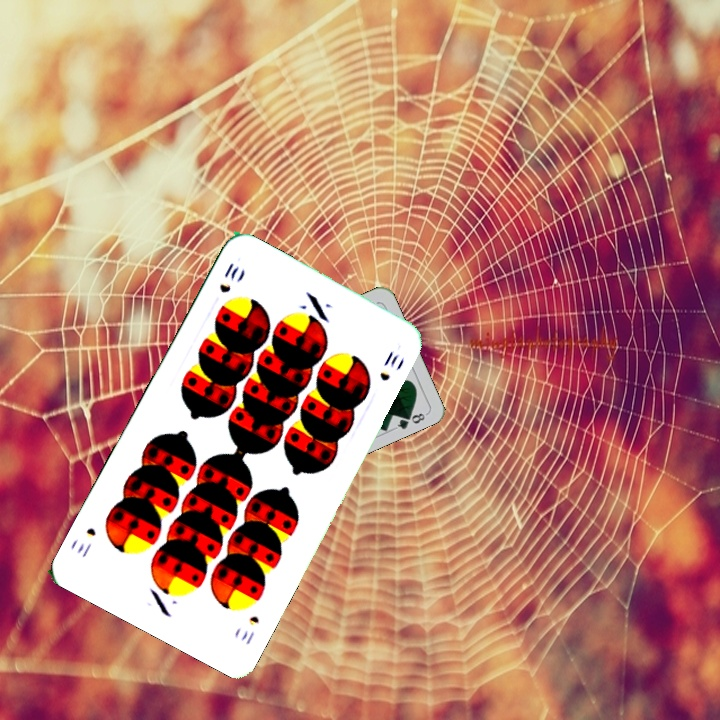S10: (215, 258, 242, 296), (237, 611, 262, 648)
